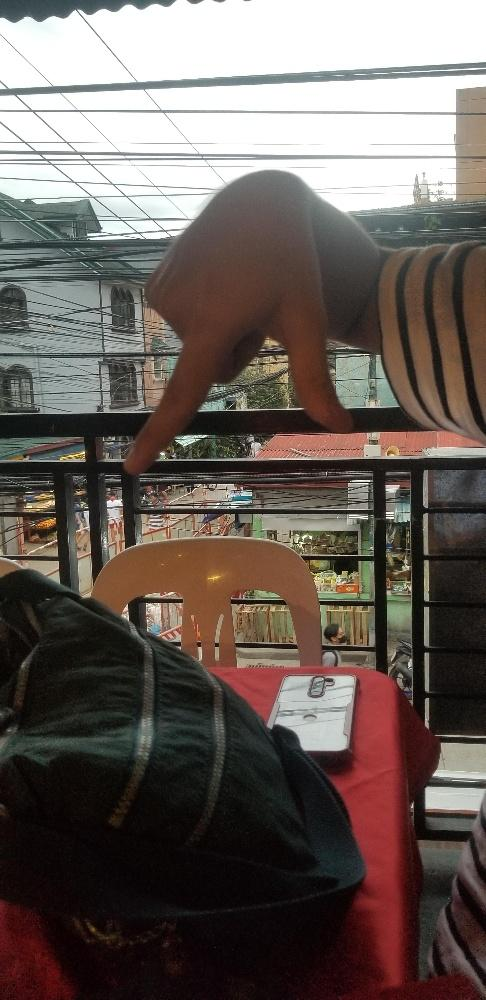q: (121, 168, 350, 475)
